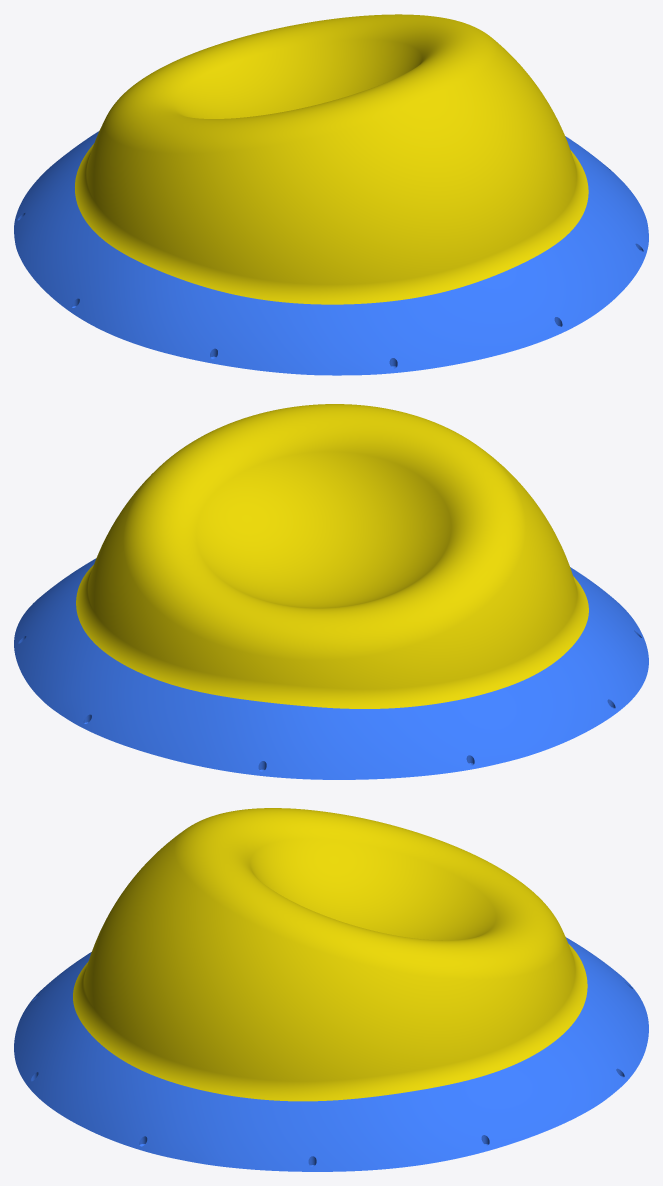
The model's file is hold_yellow_small.glb.
3 renders of one model, top to bottom at view 1: azimuth 30°, elevation 25°; view 2: azimuth 150°, elevation 25°; view 3: azimuth 270°, elevation 25°, orthographic.
Parts seen in each view (by area): view 1: Object_2, Object_3; view 2: Object_2, Object_3; view 3: Object_2, Object_3.
Part boxes in pixels (box(x1,y1,x2,y2)): Object_2: box(75, 14, 588, 304); Object_3: box(14, 131, 648, 375); Object_2: box(76, 404, 588, 708); Object_3: box(14, 558, 648, 779); Object_2: box(73, 808, 587, 1101); Object_3: box(14, 937, 648, 1171).
Size of the model in its own units: 625 by 218 by 623.
